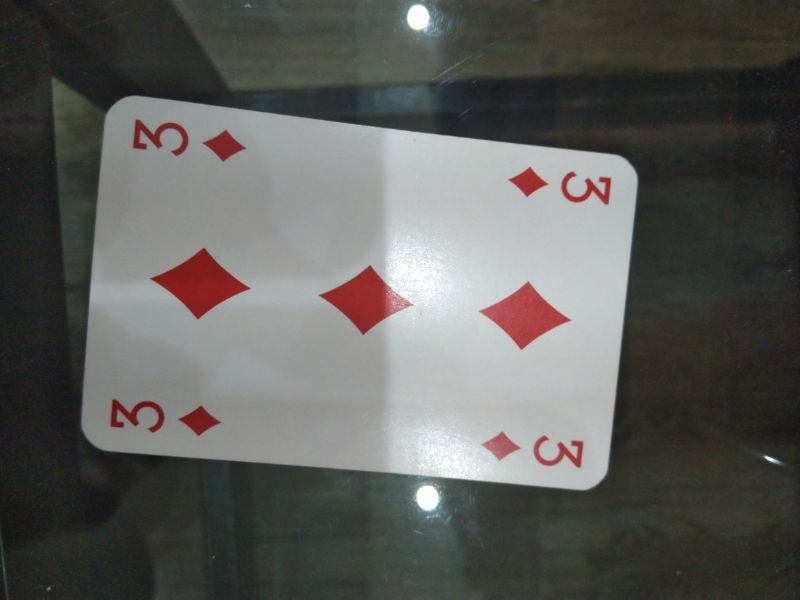3d: (124, 113, 257, 169), (472, 422, 591, 473), (104, 392, 229, 439), (502, 158, 617, 208)
